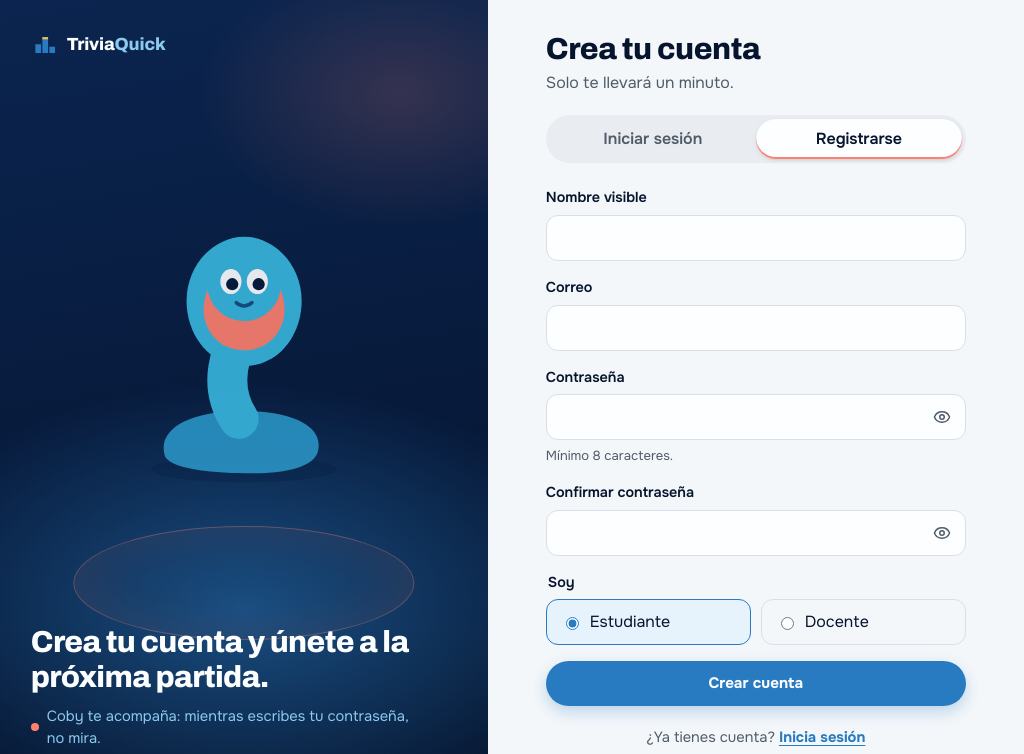
Test: Registro con Coby › avisa si las contraseñas no coinciden
Type "Ana" into the field labelled "Nombre visible" at (756, 238), box top-left (546, 215), bottom-right (966, 261)
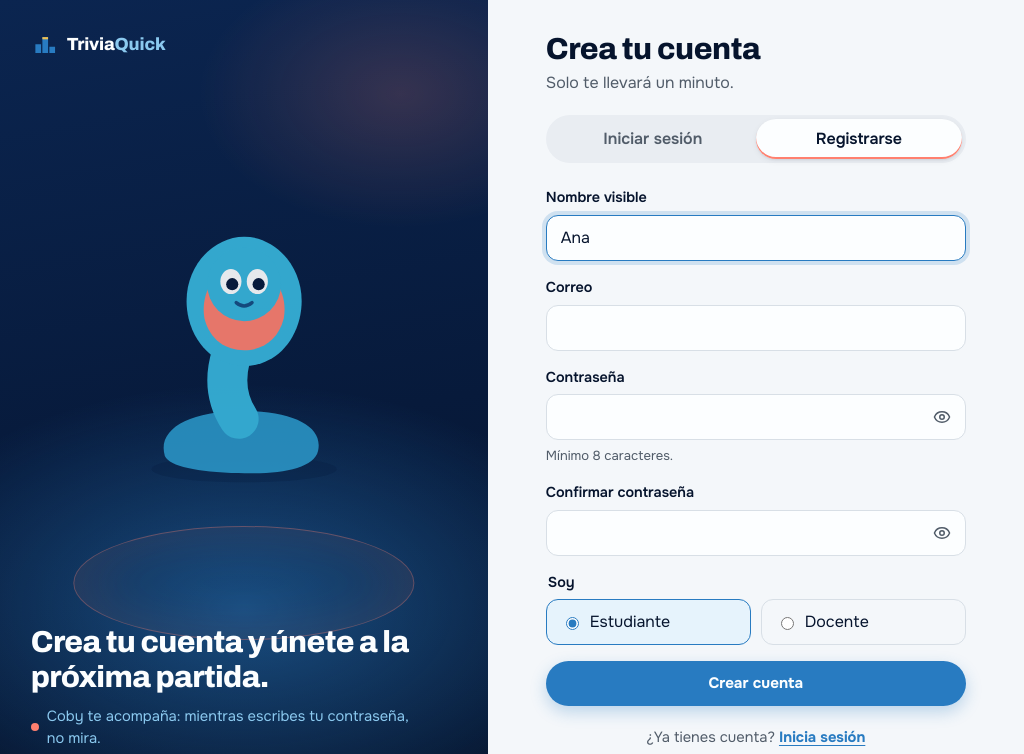
Type "a@b.com" into the field labelled "Correo" at (756, 328), box top-left (546, 305), bottom-right (966, 351)
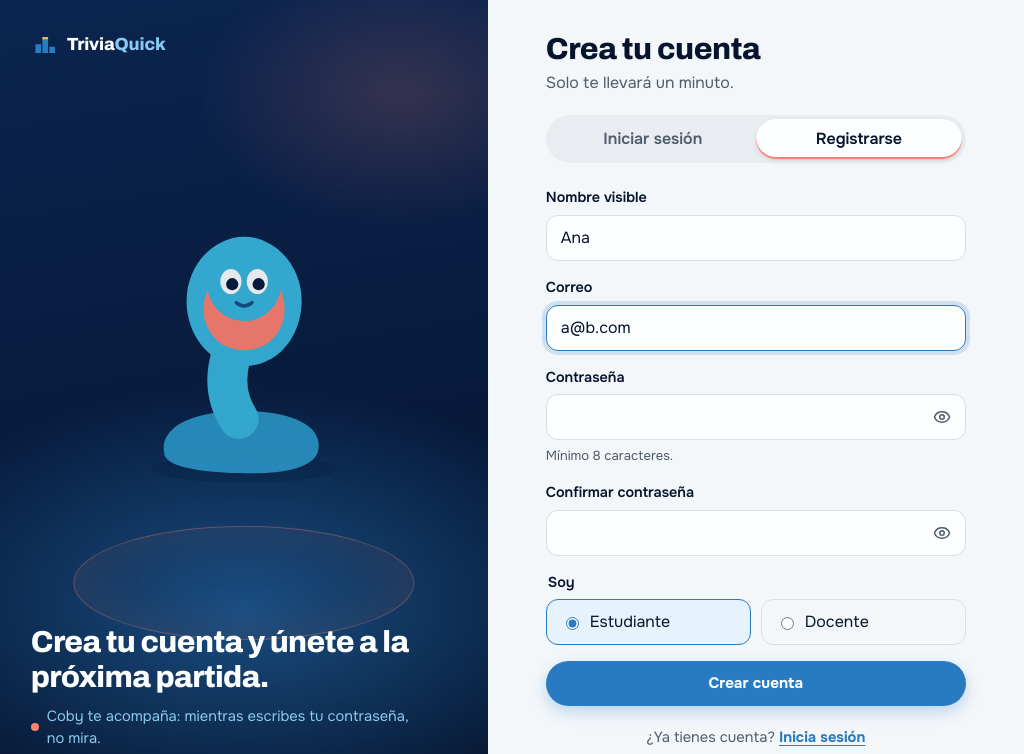
Type "contrasena1" into the password field labelled "Contraseña" at (756, 417), box top-left (546, 394), bottom-right (966, 440)
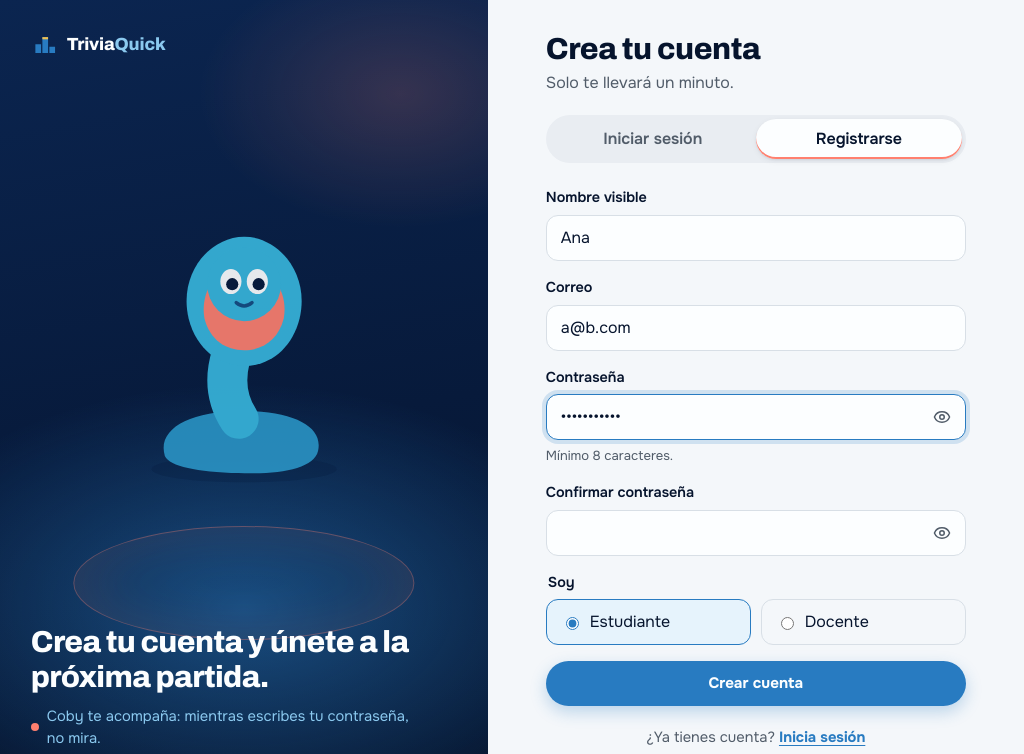
Type "otra-cosa-9" into the password field labelled "Confirmar contraseña" at (756, 533), box top-left (546, 510), bottom-right (966, 556)
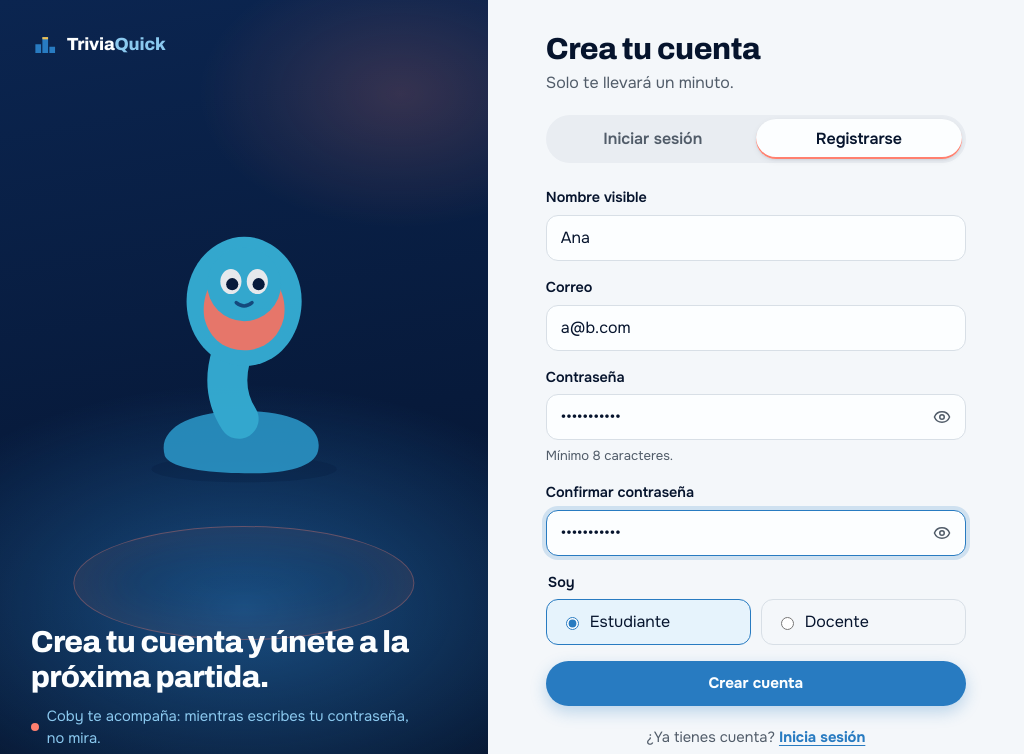
Click the button "Crear cuenta" at (756, 684), box top-left (546, 661), bottom-right (966, 706)
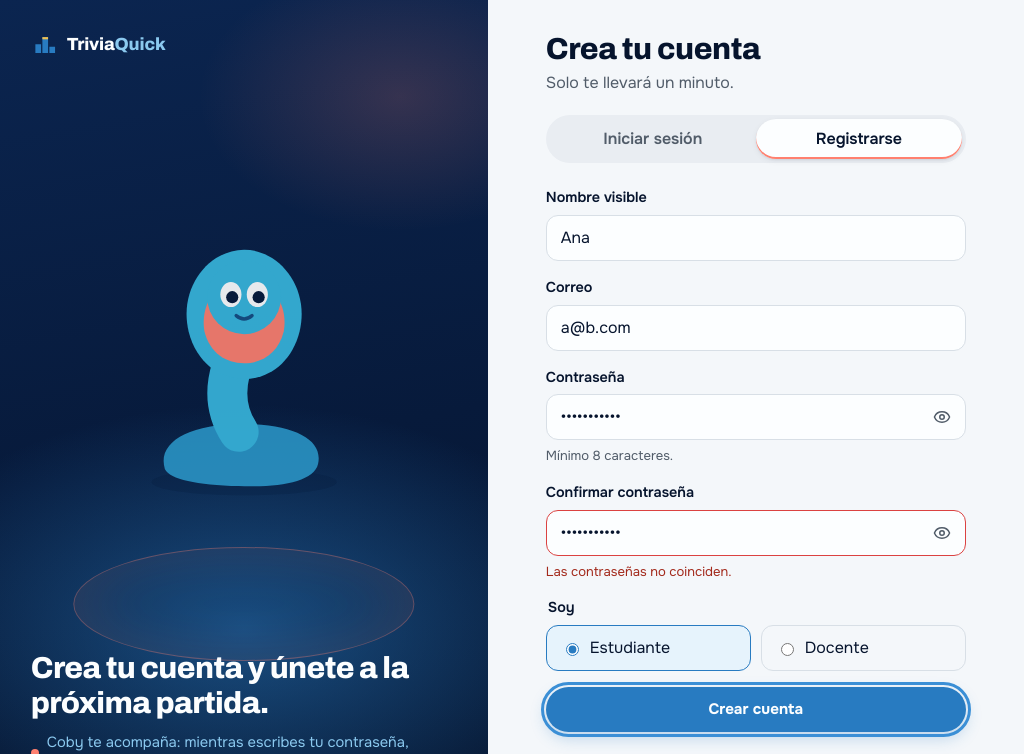
Expected: the text "Las contraseñas no coinciden." is shown, top-left (546, 563), bottom-right (732, 580)
